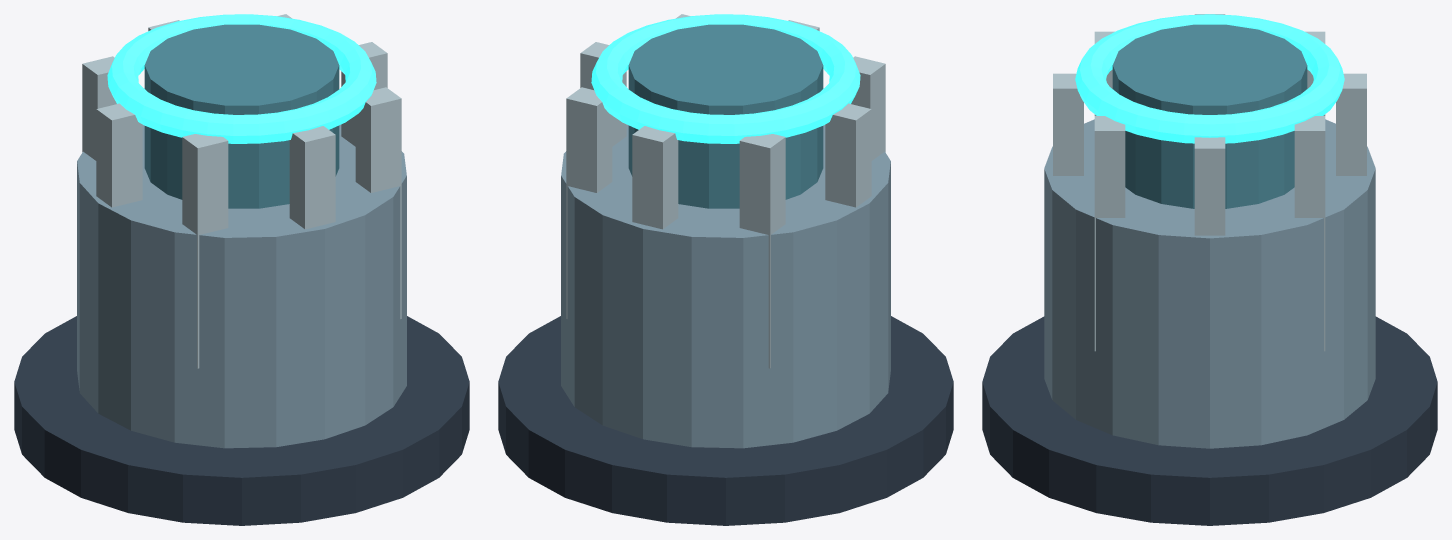
File: defense_reactor.glb
The picture shows the model from 3 angles, left to right: view 1: azimuth 30°, elevation 25°; view 2: azimuth 150°, elevation 25°; view 3: azimuth 270°, elevation 25°; orthographic projection.
Parts seen in each view (by area): view 1: Armoured canister, Reactor base, Glass fusion chamber, Reactor illuminated rim, Vertical titanium cage.005, Vertical titanium cage.007, Vertical titanium cage.006, Vertical titanium cage.004, Vertical titanium cage.003, Vertical titanium cage; view 2: Armoured canister, Reactor base, Glass fusion chamber, Reactor illuminated rim, Vertical titanium cage.003, Vertical titanium cage.001, Vertical titanium cage.002, Vertical titanium cage.004, Vertical titanium cage.005, Vertical titanium cage; view 3: Armoured canister, Reactor base, Glass fusion chamber, Reactor illuminated rim, Vertical titanium cage.001, Vertical titanium cage.007, Vertical titanium cage, Vertical titanium cage.002, Vertical titanium cage.006.
Part boxes in pixels (x1,y1,x2,y2): Armoured canister: [77, 124, 406, 448]; Reactor base: [14, 316, 469, 525]; Glass fusion chamber: [144, 24, 339, 208]; Reactor illuminated rim: [107, 14, 376, 143]; Vertical titanium cage.005: [182, 134, 228, 368]; Vertical titanium cage.007: [355, 87, 401, 318]; Vertical titanium cage.006: [289, 126, 335, 229]; Vertical titanium cage.004: [96, 103, 142, 207]; Vertical titanium cage.003: [82, 56, 116, 160]; Vertical titanium cage: [341, 42, 387, 146]; Armoured canister: [561, 124, 890, 448]; Reactor base: [498, 316, 953, 525]; Glass fusion chamber: [628, 24, 823, 208]; Reactor illuminated rim: [591, 14, 860, 143]; Vertical titanium cage.003: [739, 134, 785, 368]; Vertical titanium cage.001: [566, 87, 612, 318]; Vertical titanium cage.002: [632, 126, 678, 229]; Vertical titanium cage.004: [825, 103, 871, 207]; Vertical titanium cage.005: [851, 56, 885, 160]; Vertical titanium cage: [580, 42, 626, 146]; Armoured canister: [1044, 119, 1375, 448]; Reactor base: [982, 316, 1437, 525]; Glass fusion chamber: [1112, 24, 1307, 208]; Reactor illuminated rim: [1075, 14, 1344, 143]; Vertical titanium cage.001: [1294, 116, 1325, 351]; Vertical titanium cage.007: [1094, 116, 1125, 351]; Vertical titanium cage: [1194, 137, 1225, 235]; Vertical titanium cage.002: [1336, 73, 1366, 175]; Vertical titanium cage.006: [1053, 73, 1083, 175].
Bounding box in the file's own units: 2.06 × 1.82 × 2.06.
